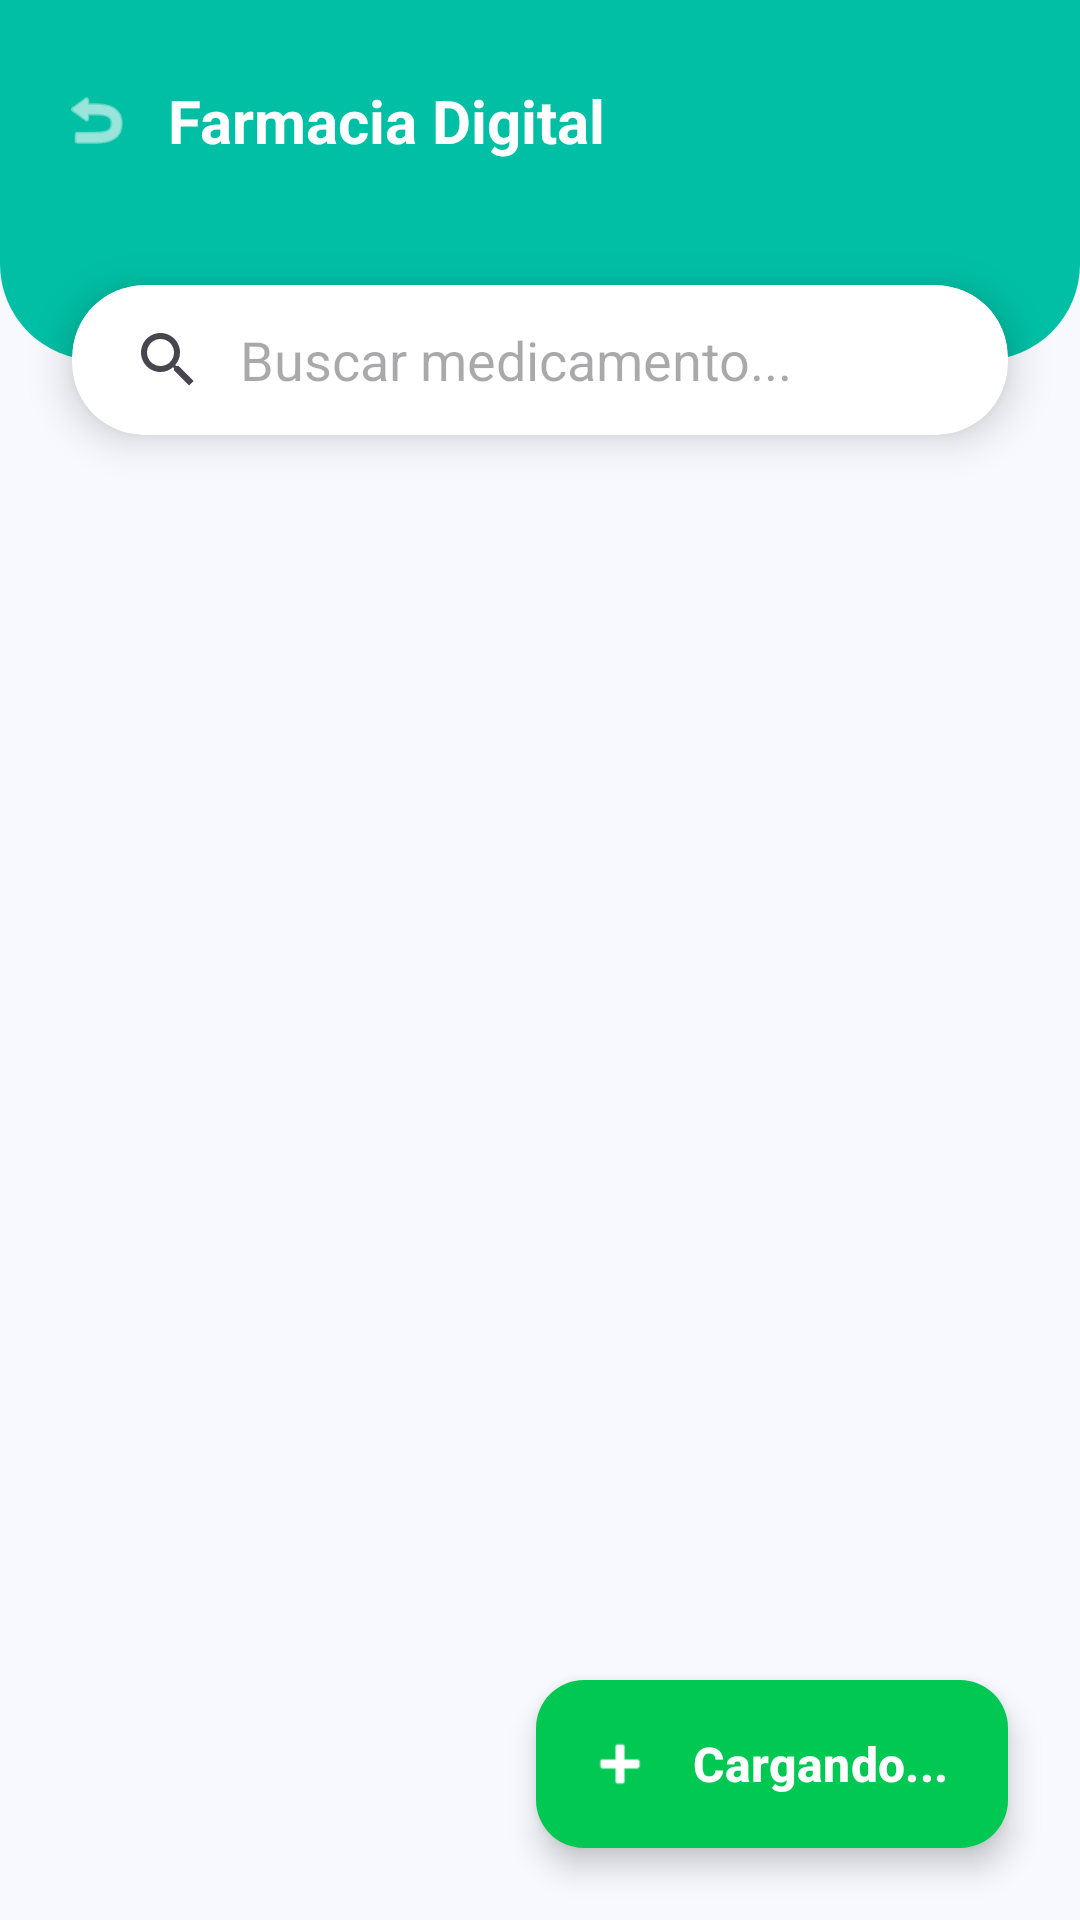

Locate icon controls on the screen. Image size 1080w x 1920h, boxes as Rect(x1, y1, x2, y2).
revert: Rect(71, 97, 123, 144)
